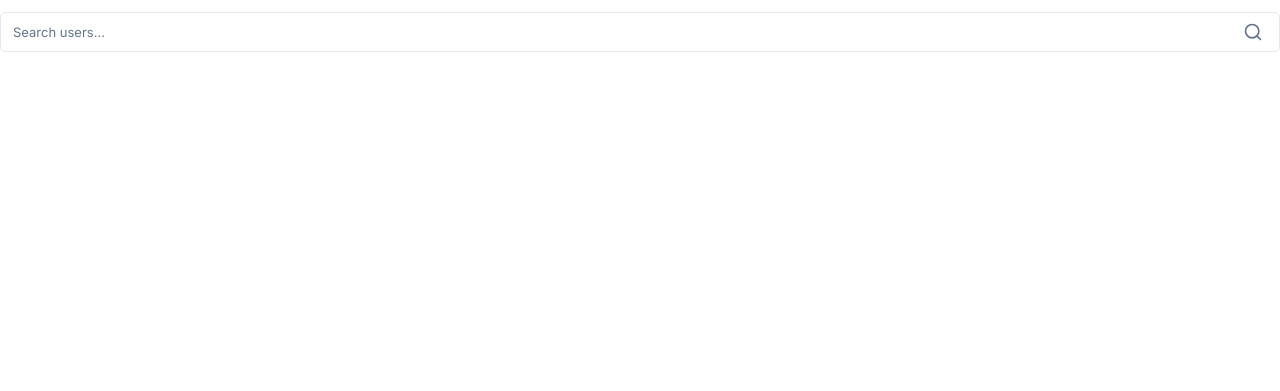
Test case: UserLookup › keeps at least three matching users visible in the search list
In the dropdown named "New Owner": (622, 32) [13,14,1231,50], type "alex"
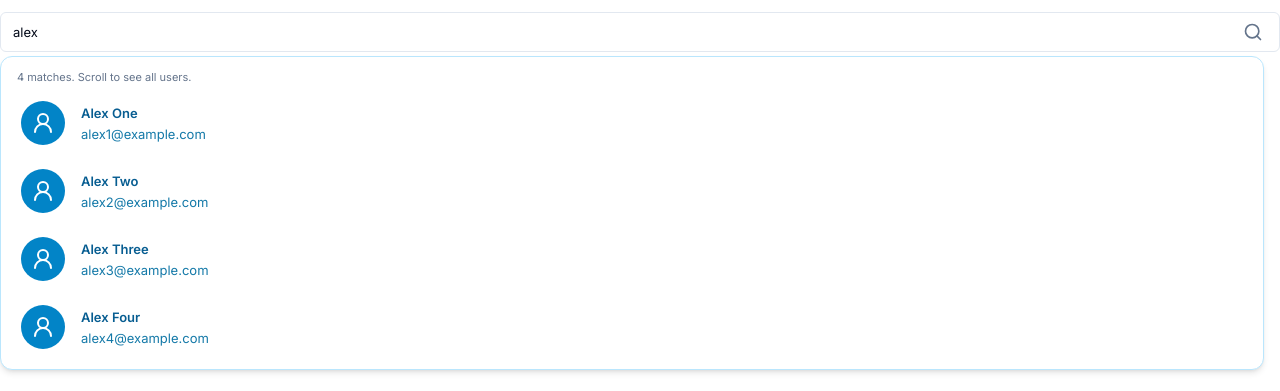
expect the number of options is 4: met, box [9,89,1255,157]; [9,157,1255,225]; [9,225,1255,293]; [9,293,1255,361]
expect the text "4 matches. Scroll to see all users." is shown: met, box [17,70,192,84]
